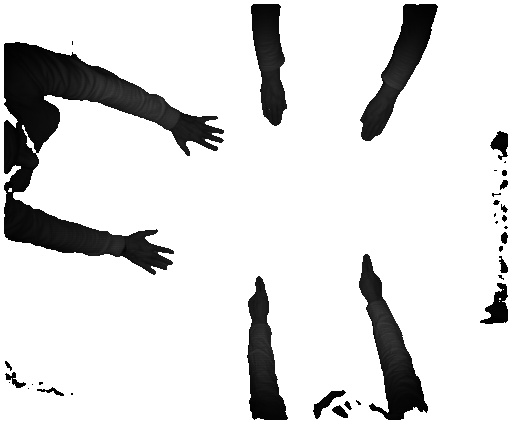hand: (127, 224, 175, 279), (177, 113, 223, 159), (360, 89, 395, 143), (352, 248, 386, 299), (259, 82, 287, 127), (248, 272, 271, 318)
